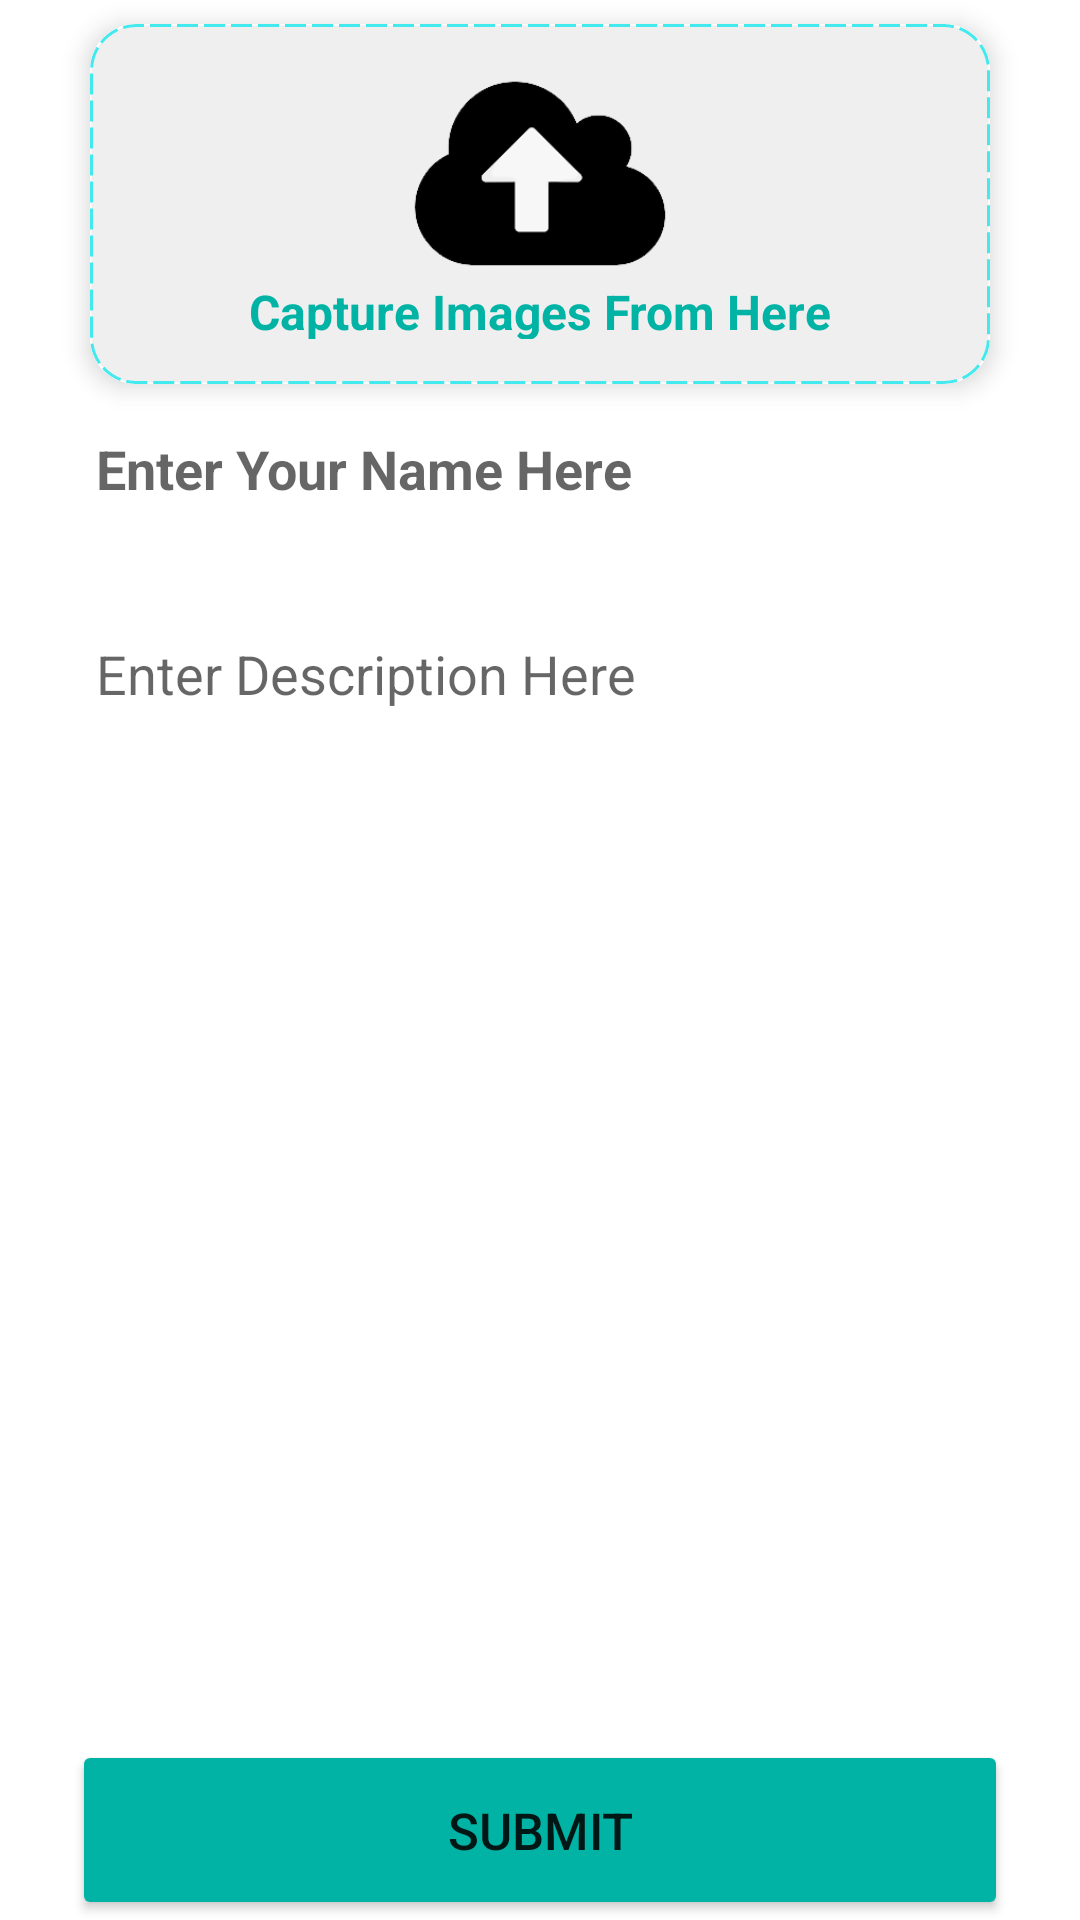

Screen size 1080*1920. Icon name, then its box in pixels as {"left": x1, "top": y1, "right": x2, "bottom": y2}:
uploadimg: {"left": 414, "top": 81, "right": 666, "bottom": 266}
